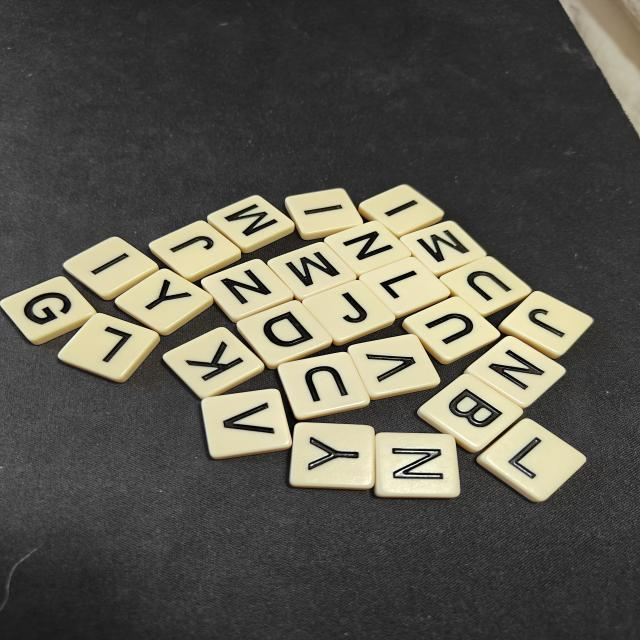b: (417, 374, 523, 452)
d: (237, 300, 332, 369)
g: (0, 276, 96, 345)
i: (63, 237, 158, 300), (359, 184, 444, 237), (285, 188, 363, 240)
j: (499, 291, 593, 358), (303, 280, 396, 345), (149, 221, 241, 282)
k: (163, 327, 265, 399)
l: (477, 418, 586, 502), (58, 313, 160, 382), (359, 257, 450, 318)
m: (267, 242, 356, 301), (208, 195, 295, 253), (400, 221, 486, 277)
n: (464, 336, 565, 408), (201, 259, 294, 322), (374, 432, 460, 498), (324, 221, 411, 277)
u: (402, 297, 500, 364), (278, 352, 370, 420), (440, 257, 531, 316)
v: (201, 389, 292, 459), (348, 334, 440, 400)
y: (115, 269, 213, 335), (289, 423, 375, 490)
